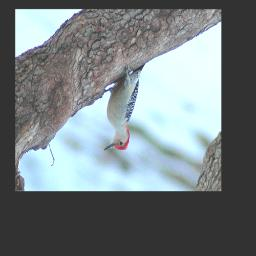Woodpecker: (102, 62, 146, 152)
